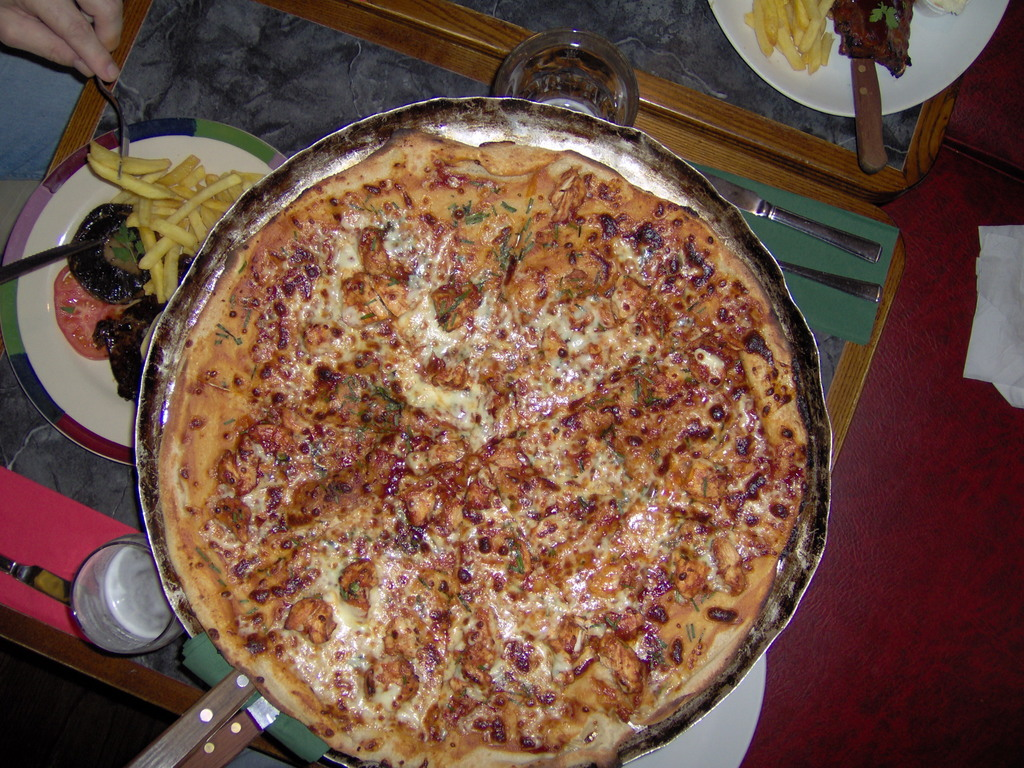Pizza: (144, 126, 857, 766)
